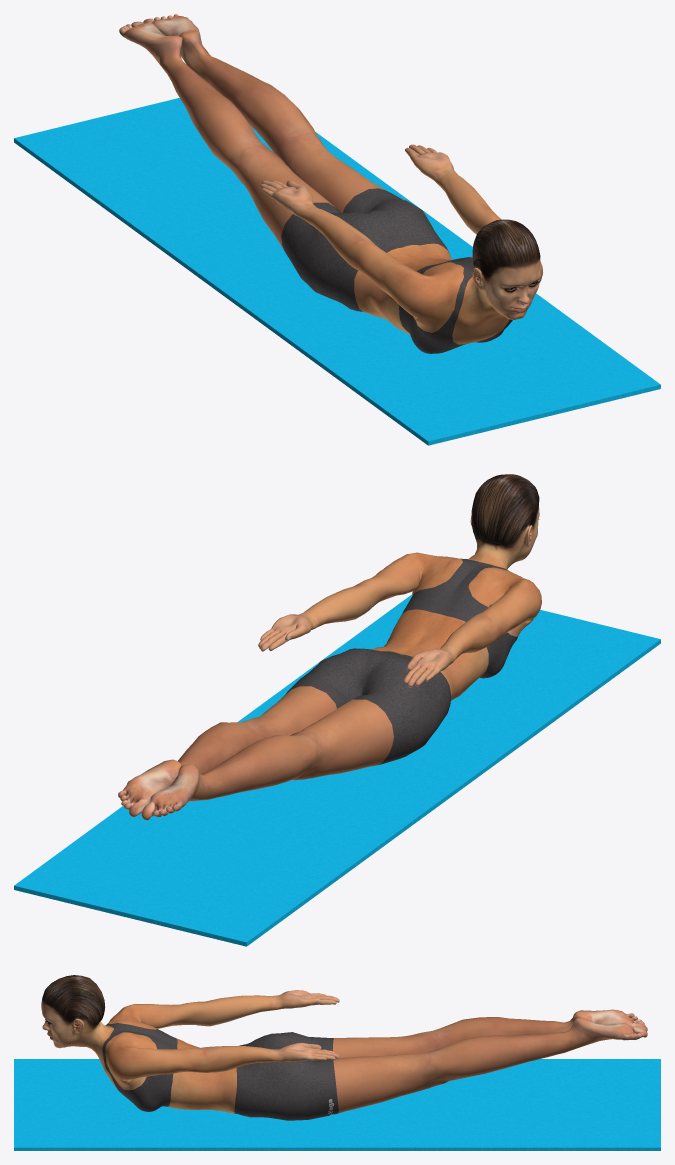
The model's file is salabhasana.glb.
3 renders of one model, top to bottom at view 1: azimuth 30°, elevation 25°; view 2: azimuth 150°, elevation 25°; view 3: azimuth 270°, elevation 25°, orthographic. The views are drawn at different scales.
Parts seen in each view (by area): view 1: mat_001-material, FemaleSkin-material; view 2: mat_001-material, FemaleSkin-material; view 3: mat_001-material, FemaleSkin-material.
Part boxes in pixels (x1=…): mat_001-material: x1=14, y1=98, x2=660, y2=445; FemaleSkin-material: x1=119, y1=14, x2=542, y2=353; mat_001-material: x1=14, y1=594, x2=660, y2=946; FemaleSkin-material: x1=118, y1=474, x2=541, y2=820; mat_001-material: x1=14, y1=1059, x2=660, y2=1150; FemaleSkin-material: x1=41, y1=975, x2=647, y2=1120.
Size of the model in its own units: 2 by 1.36 by 6.17.
Materials: 2 (2 with a texture image).
